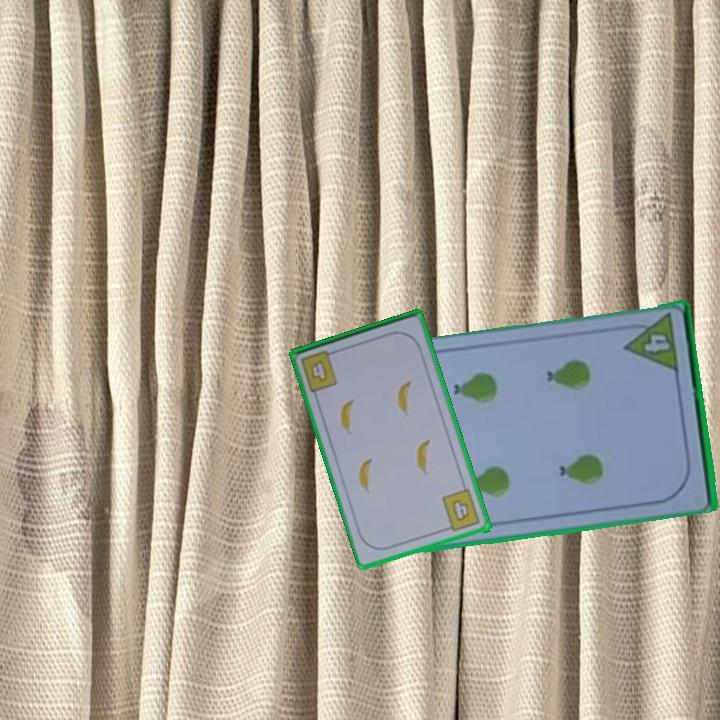4b: (438, 486, 483, 535), (307, 357, 331, 385)
4p: (617, 310, 681, 375)
